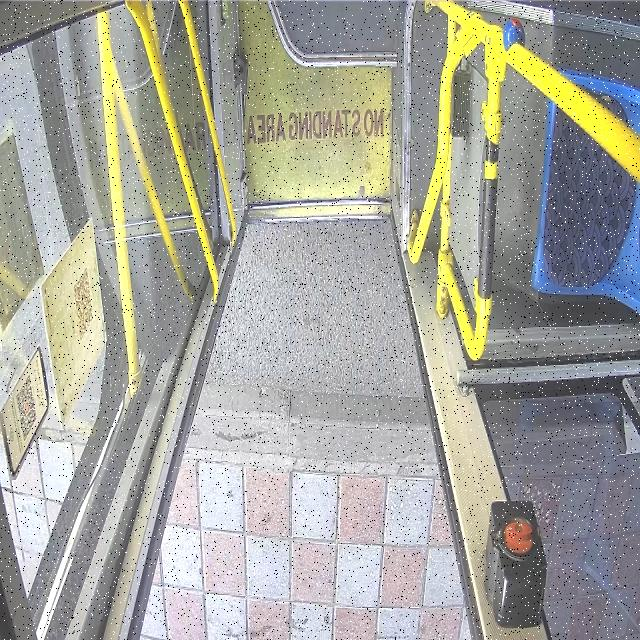open: (128, 211, 472, 640)
